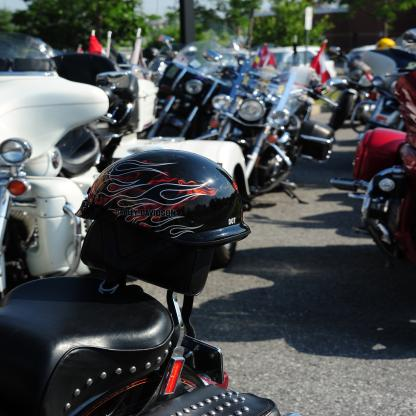Helmet: (77, 144, 247, 295)
